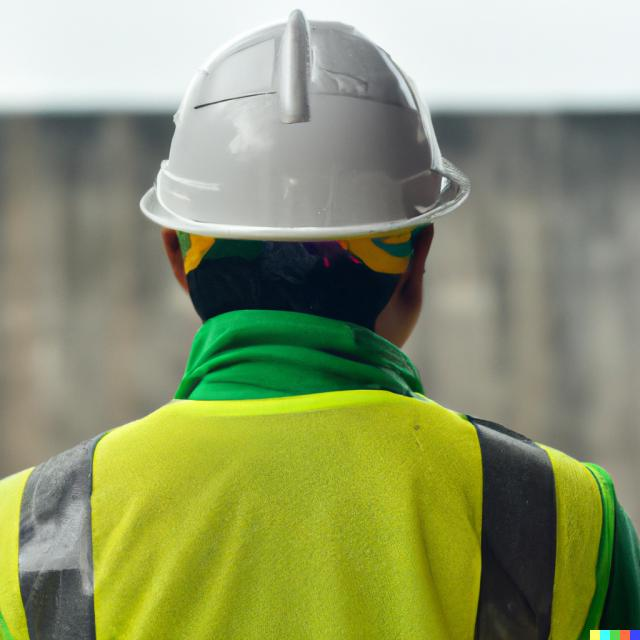Reflective-Jacket: (18, 366, 636, 636)
Safety-Helmet: (136, 13, 474, 240)
